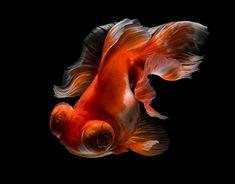goldfish: (51, 25, 203, 162)
